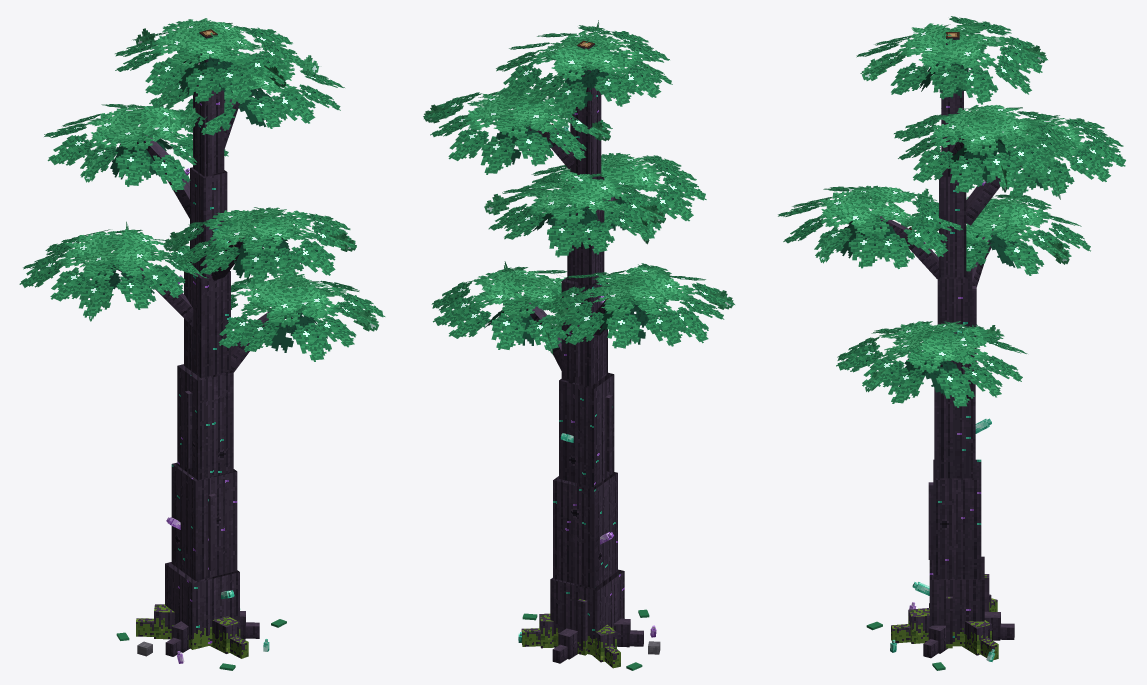
The model's file is gembark_tree.glb.
3 renders of one model, left to right at view 1: azimuth 30°, elevation 25°; view 2: azimuth 150°, elevation 25°; view 3: azimuth 270°, elevation 25°, orthographic.
Visible parts, largest first — view 1: trunk, pad_6, pad_3, pad_2, pad_1, pad_4, pad_5, root_1_inner, bark_strip_3, root_5_inner, bark_strip_4; view 2: trunk, pad_2, pad_6, pad_4, pad_5, pad_1, pad_3, bark_strip_1, bark_strip_4, root_5_inner; view 3: trunk, pad_5, pad_1, pad_6, pad_3, pad_2, pad_4, limb_4_1, root_1_inner, root_3_inner.
Boxes of the visible parts, x1,y1,x2,y2 form: trunk: [165, 85, 239, 649]; pad_6: [115, 18, 305, 103]; pad_3: [163, 207, 356, 285]; pad_2: [19, 221, 208, 321]; pad_1: [218, 274, 385, 361]; pad_4: [44, 104, 228, 191]; pad_5: [149, 52, 344, 135]; root_1_inner: [210, 616, 240, 653]; bark_strip_3: [208, 493, 216, 571]; root_5_inner: [154, 604, 174, 639]; bark_strip_4: [185, 390, 192, 468]; trunk: [550, 85, 624, 655]; pad_2: [541, 263, 734, 348]; pad_6: [496, 20, 672, 123]; pad_4: [484, 172, 665, 257]; pad_5: [423, 88, 612, 174]; pad_1: [431, 261, 608, 354]; pad_3: [521, 153, 706, 244]; bark_strip_1: [577, 599, 587, 655]; bark_strip_4: [605, 395, 612, 471]; root_5_inner: [592, 624, 616, 662]; trunk: [929, 91, 984, 646]; pad_5: [894, 105, 1078, 192]; pad_1: [836, 321, 1027, 407]; pad_6: [856, 16, 1047, 104]; pad_3: [778, 185, 962, 268]; pad_2: [901, 194, 1090, 275]; pad_4: [939, 115, 1125, 199]; limb_4_1: [966, 176, 1000, 225]; root_1_inner: [908, 608, 929, 643]; root_3_inner: [962, 620, 991, 655].
Size of the model in its own units: 5 by 9.14 by 4.93.
1 material, 1 textured.
